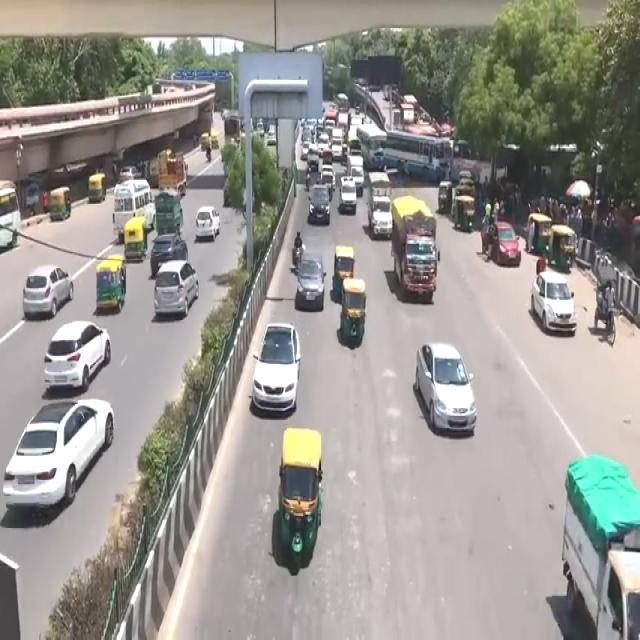BUS: (384, 126, 454, 182)
TRUCK: (562, 465, 638, 640), (392, 200, 441, 303)
